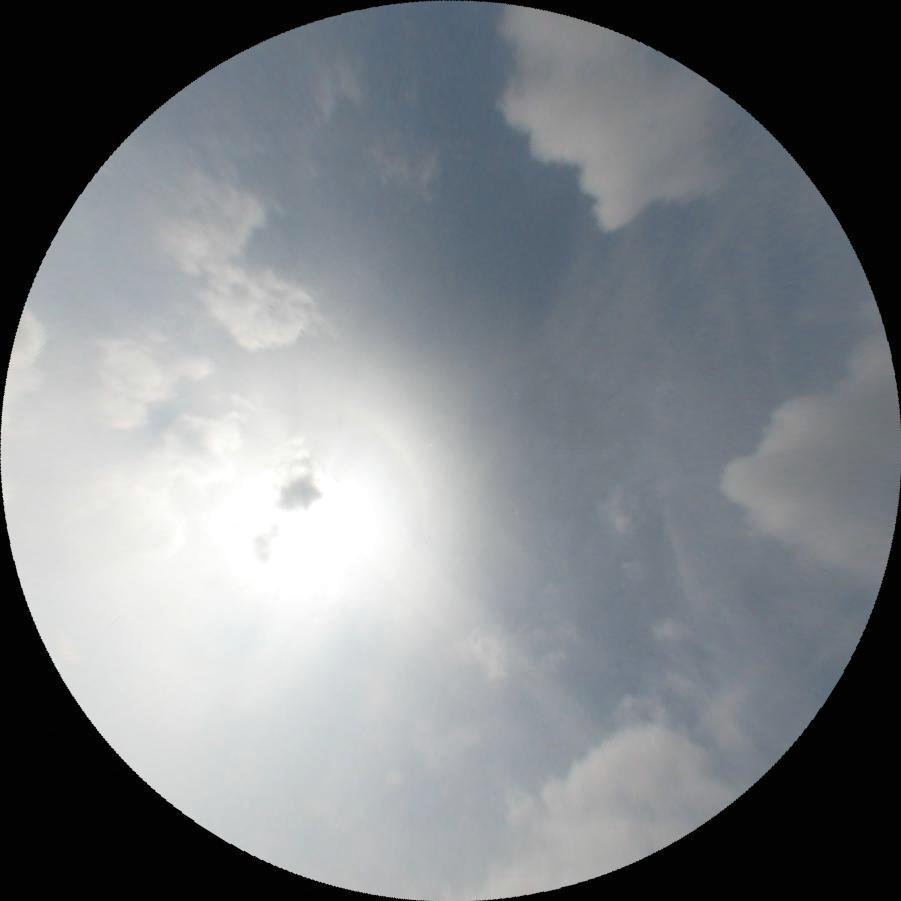sun: (212, 448, 379, 619)
